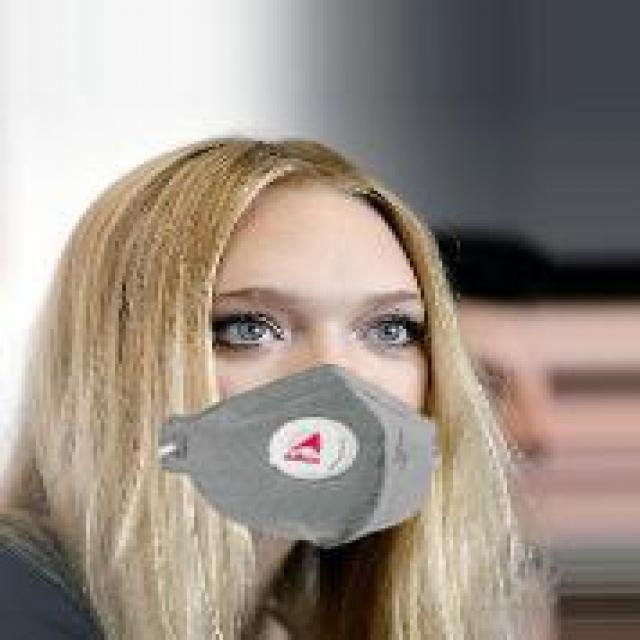mask: (133, 138, 482, 567)
